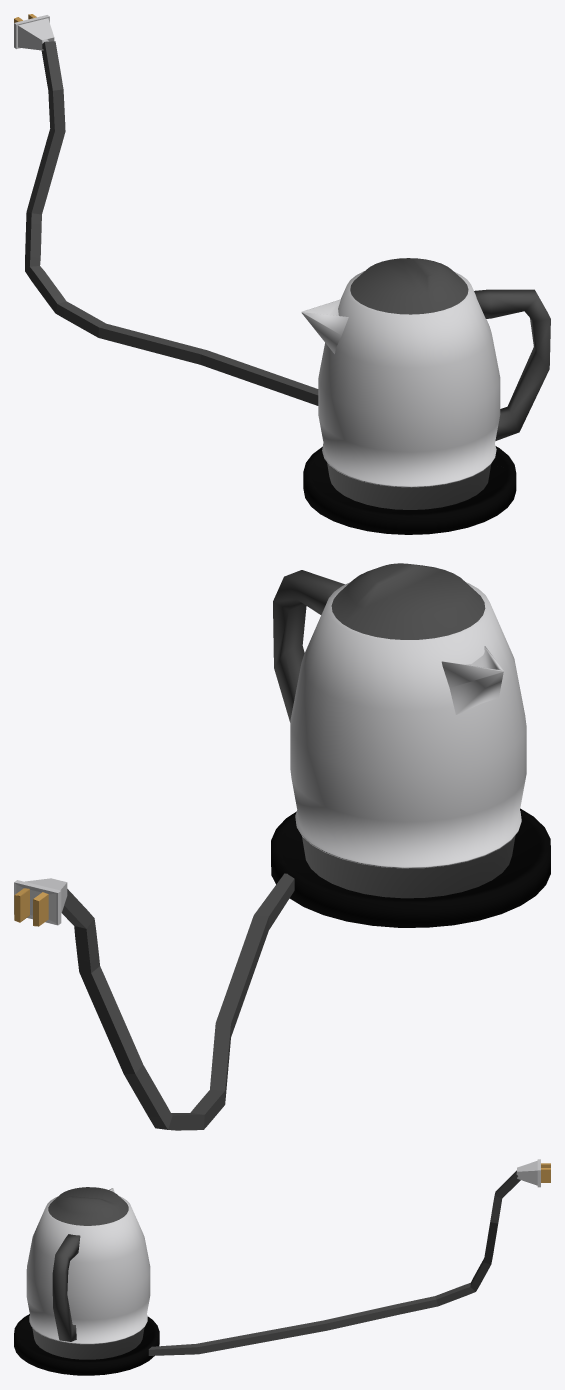
File: KettleJuniper.glb
3 renders of one model, top to bottom at view 1: azimuth 30°, elevation 25°; view 2: azimuth 150°, elevation 25°; view 3: azimuth 270°, elevation 25°, orthographic. The views are drawn at different scales.
Visible parts, largest first — view 1: kettle, Cube.016, Wiring.002; view 2: kettle, Cube.016, Wiring.002; view 3: kettle, Cube.016, Wiring.002.
Part boxes in pixels (box(x1,y1,x2,y2)): kettle: box(301, 258, 550, 534); Cube.016: box(25, 41, 318, 405); Wiring.002: box(14, 14, 54, 50); kettle: box(271, 563, 550, 927); Cube.016: box(62, 873, 294, 1130); Wiring.002: box(14, 878, 67, 926); kettle: box(14, 1187, 159, 1375); Cube.016: box(148, 1170, 520, 1355); Wiring.002: box(517, 1159, 550, 1187).
Bounding box in the file's own units: 0.2568 × 0.266 × 0.7879.
2 materials, 2 textured.
